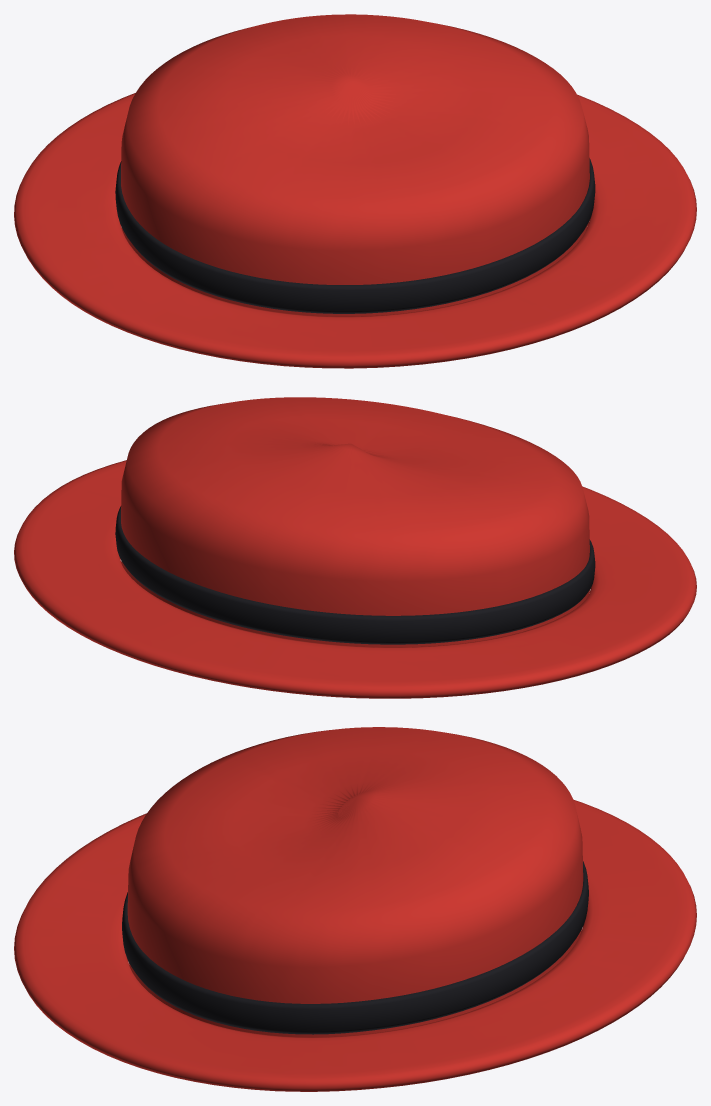
The model's file is hw_boater.glb.
3 views of the same model, one above another, from view 1: azimuth 30°, elevation 25°; view 2: azimuth 150°, elevation 25°; view 3: azimuth 270°, elevation 25° (orthographic). The views are drawn at different scales.
Parts seen in each view (by area): view 1: hw_boater, hw_boater_brim, hw_boater_band; view 2: hw_boater, hw_boater_brim, hw_boater_band; view 3: hw_boater, hw_boater_brim, hw_boater_band.
Part boxes in pixels (x1,y1,x2,y2): hw_boater: (121, 14, 589, 316); hw_boater_brim: (14, 93, 696, 368); hw_boater_band: (115, 158, 595, 313); hw_boater: (121, 397, 589, 647); hw_boater_brim: (14, 460, 696, 698); hw_boater_band: (115, 506, 595, 644); hw_boater: (127, 727, 583, 1037); hw_boater_brim: (14, 799, 696, 1091); hw_boater_band: (122, 861, 588, 1034).
Bounding box in the file's own units: 0.9648 × 0.2326 × 0.8925.
